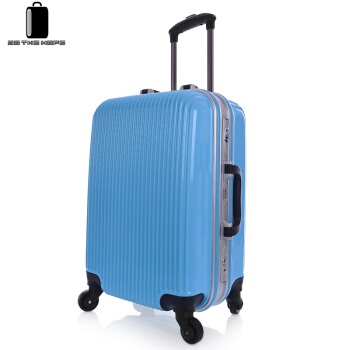luggage: (77, 11, 245, 345)
